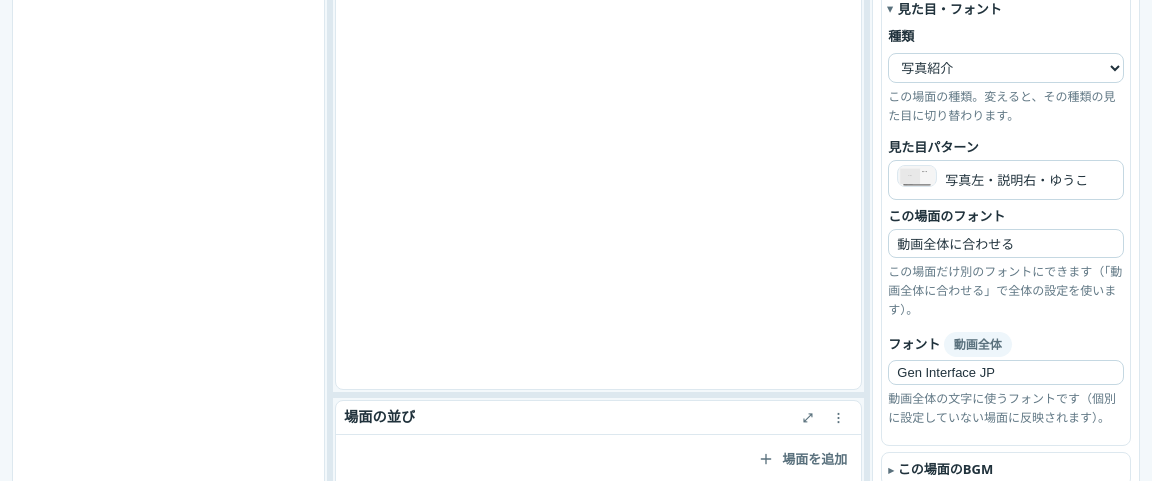
Test case: 見た目パターンを見て選ぶ（#1031） › 候補を選ぶと、その見た目に切り替わる
(page scrolled)
Expected: the label "見た目パターン" is shown, [888, 138, 979, 156]
Click the button "素材（未設定） 見出しの例 字幕の例文がここに入ります 写真左・説明右・ゆうこ".
click(1006, 180)  # box [888, 160, 1124, 200]
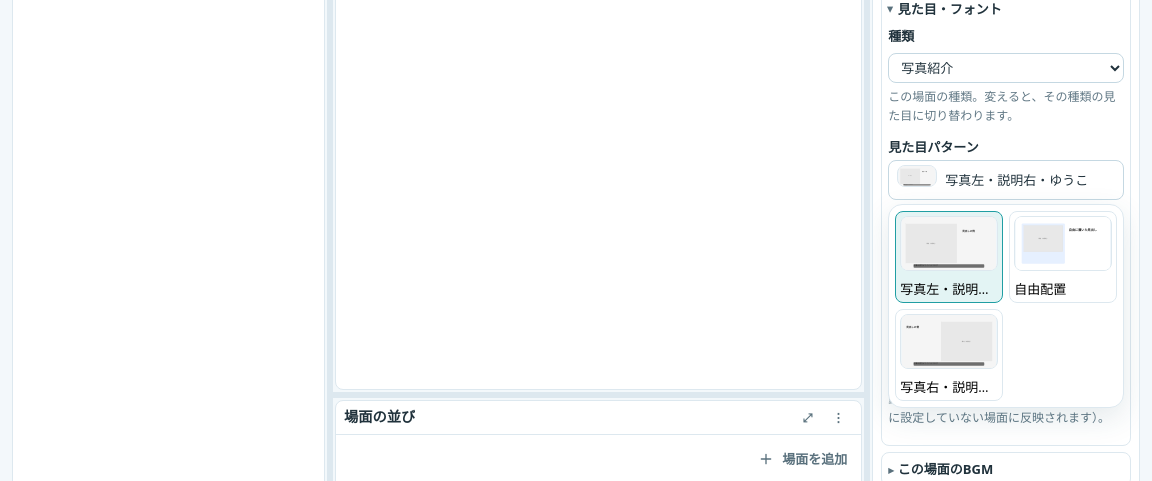
Click the button "素材（未設定） 自由に置いた見出し 自由配置".
click(1063, 257)  # box [1009, 211, 1117, 303]
(page scrolled)
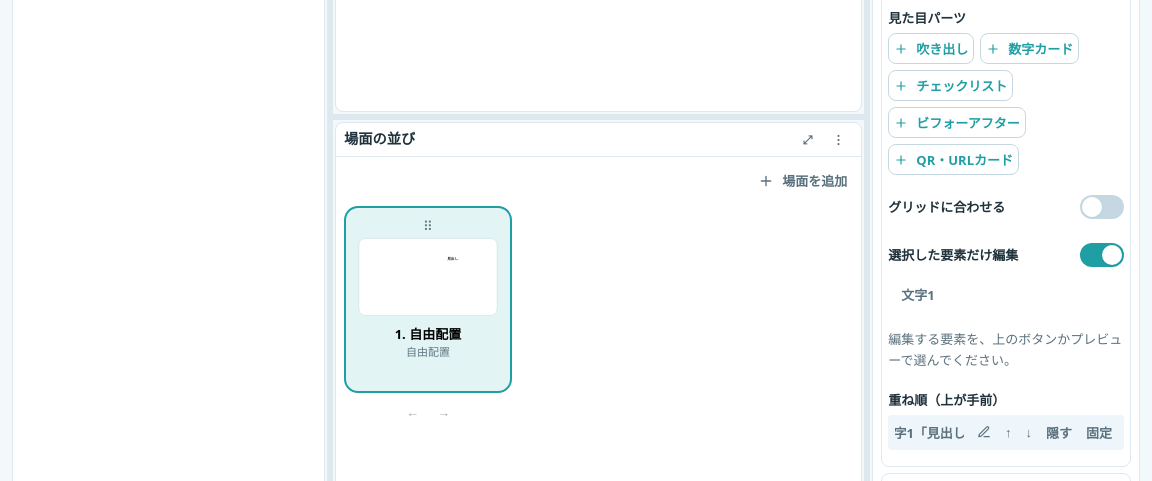
Result: the text "自由配置" is shown at [406, 344, 450, 359]
